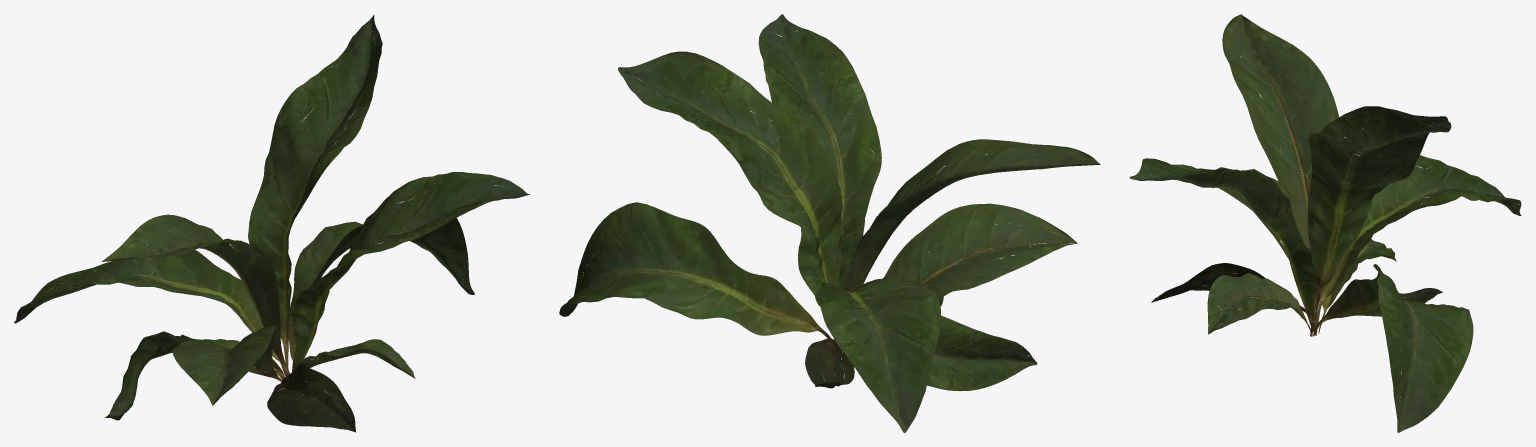
Rendered from anthurium_botany_01.glb.
The picture shows the model from 3 angles, left to right: view 1: azimuth 30°, elevation 25°; view 2: azimuth 150°, elevation 25°; view 3: azimuth 270°, elevation 25°; orthographic projection.
Visible parts, largest first — view 1: anthurium_botany_01_b; view 2: anthurium_botany_01_b; view 3: anthurium_botany_01_b.
Boxes of the visible parts, bbox=[...] form: anthurium_botany_01_b: bbox=[14, 14, 529, 432]; anthurium_botany_01_b: bbox=[559, 14, 1100, 432]; anthurium_botany_01_b: bbox=[1129, 14, 1521, 432].
Size of the model in its own units: 0.7567 by 0.4717 by 0.5716.
1 material, 1 textured.
